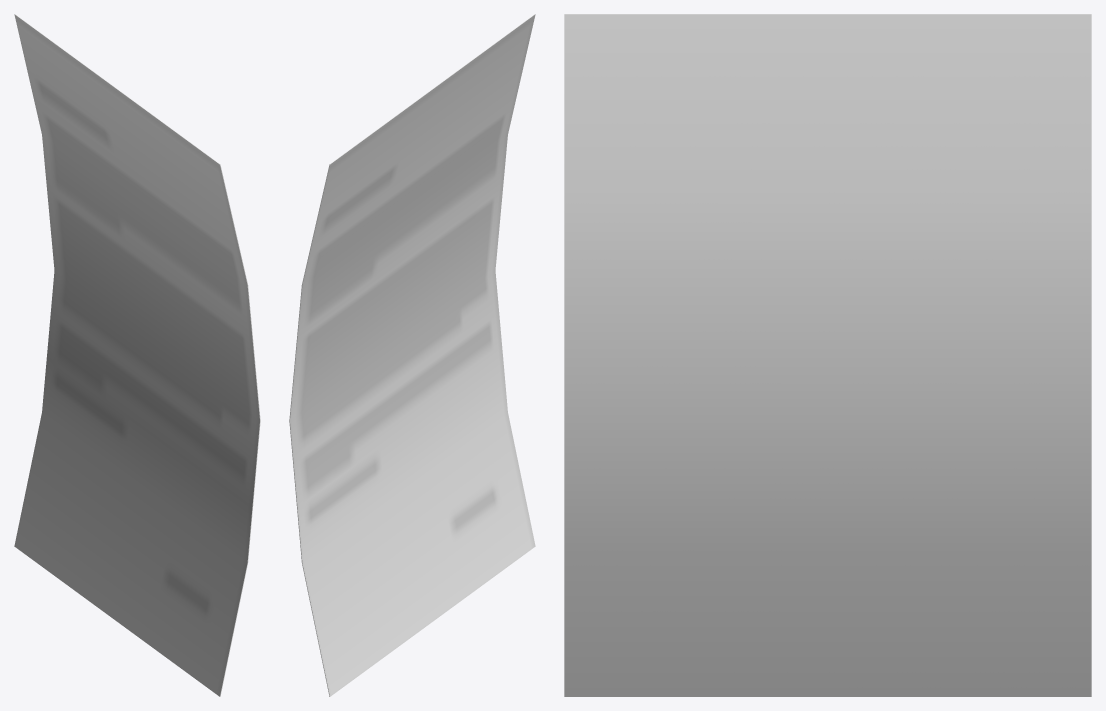
The model's file is Paper06.fbx.
3 views of the same model, side by side, from view 1: azimuth 30°, elevation 25°; view 2: azimuth 150°, elevation 25°; view 3: azimuth 270°, elevation 25° (orthographic). The views are drawn at different scales.
Visible parts, largest first — view 1: Paper06; view 2: Paper06; view 3: Paper06.
Boxes of the visible parts, x1,y1,x2,y2 form: Paper06: (14,14,260,696); Paper06: (289,14,535,696); Paper06: (564,14,1091,696).
Size of the model in its own units: 0.024 by 0.21 by 0.3.
